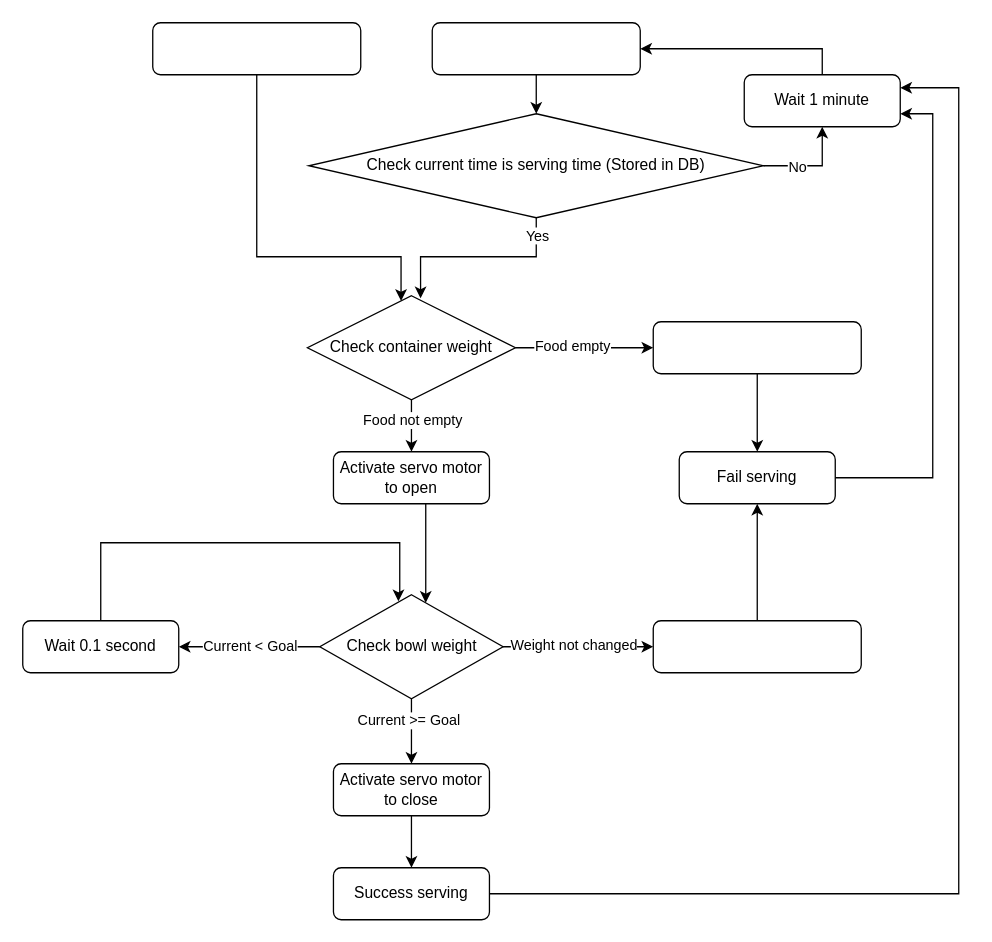
This 992x942 diagram has some shape labels left out. Each missing label, with the centre of its shape:
Get current time: (x=535, y=48)
Publish error message "Food Empty": (x=756, y=347)
Publish error message "Food Stuck": (x=756, y=646)
Serve button pressed: (x=256, y=48)
